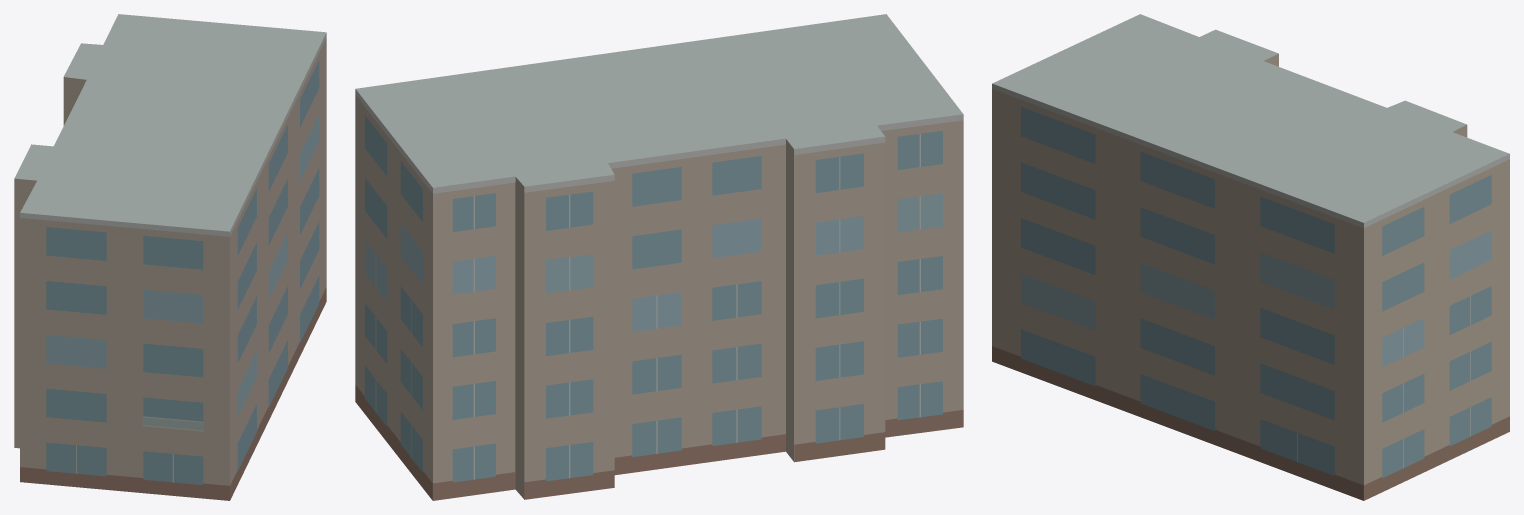
The model's file is survey-upis-32526445.glb.
3 renders of one model, left to right at view 1: azimuth 30°, elevation 25°; view 2: azimuth 150°, elevation 25°; view 3: azimuth 270°, elevation 25°, orthographic. The views are drawn at different scales.
Parts seen in each view (by area): view 1: survey-upis-32526445.tmp; view 2: survey-upis-32526445.tmp; view 3: survey-upis-32526445.tmp.
Boxes of the visible parts, left/top/right/bottom form: survey-upis-32526445.tmp: left=14, top=14, right=326, bottom=500; survey-upis-32526445.tmp: left=355, top=14, right=963, bottom=500; survey-upis-32526445.tmp: left=992, top=14, right=1509, bottom=500.
Size of the model in its own units: 20.49 by 12.7 by 21.45.
